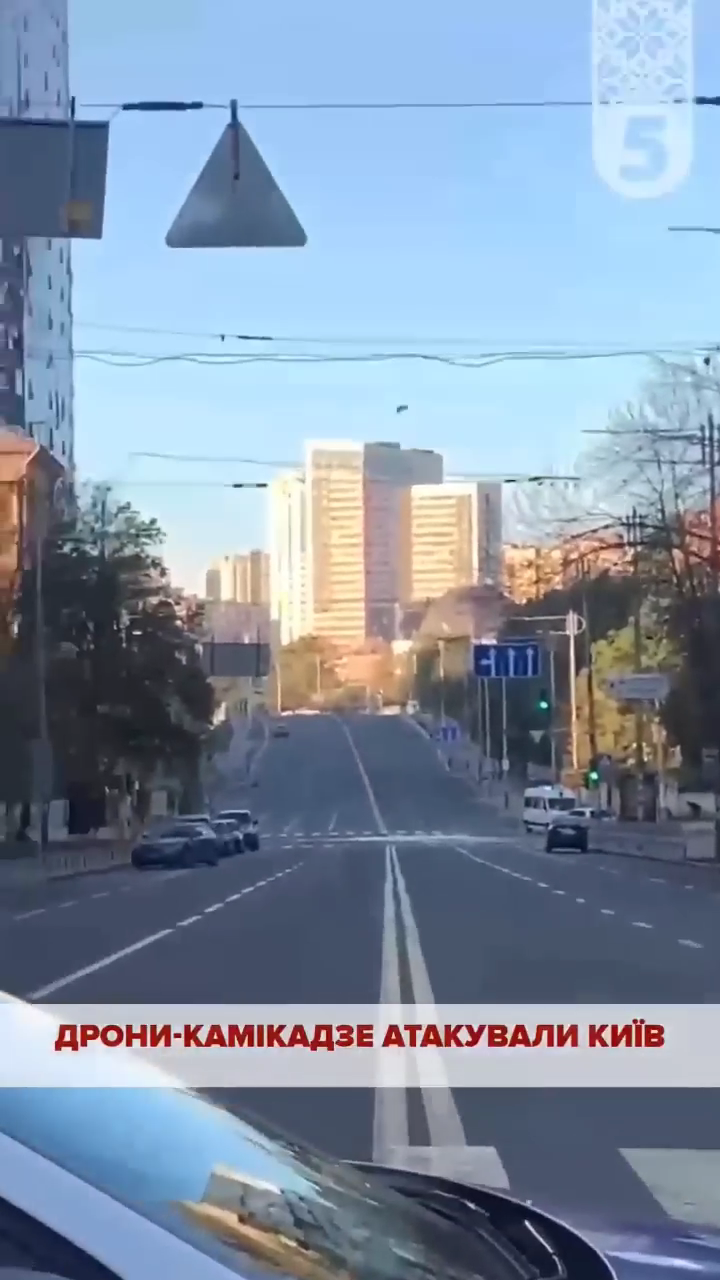shahed: (395, 402, 409, 415)
